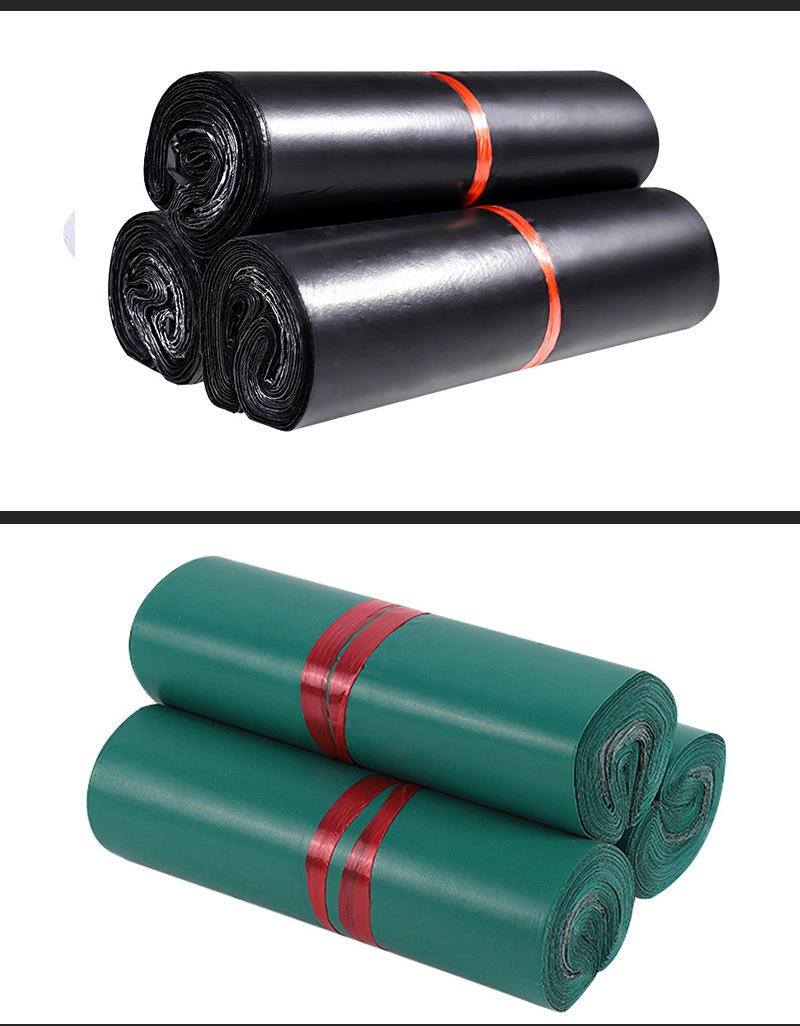塑料袋: (60, 517, 750, 1026), (108, 72, 718, 429)
